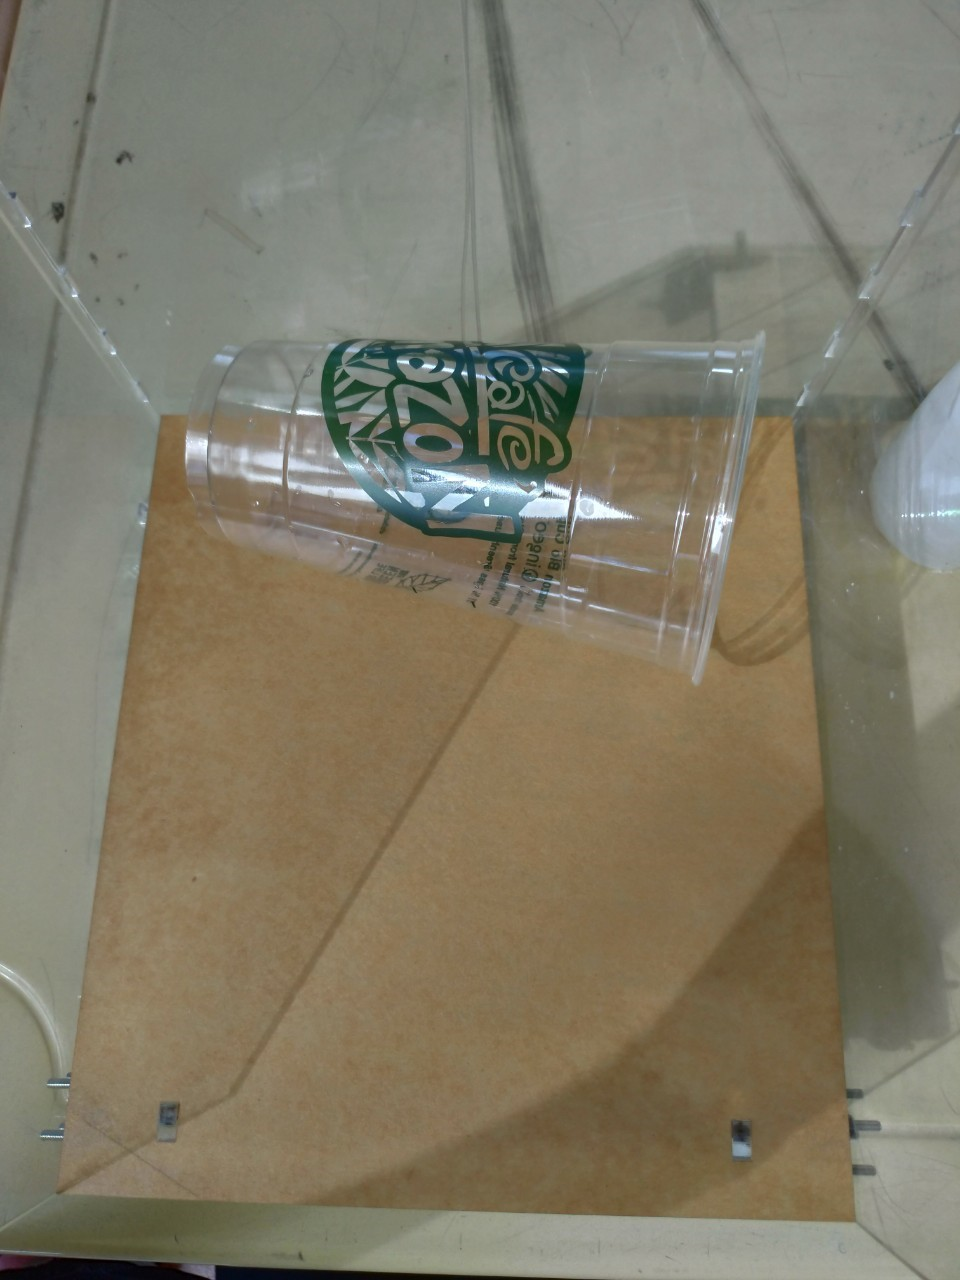PlasticCup: (182, 327, 765, 686)
